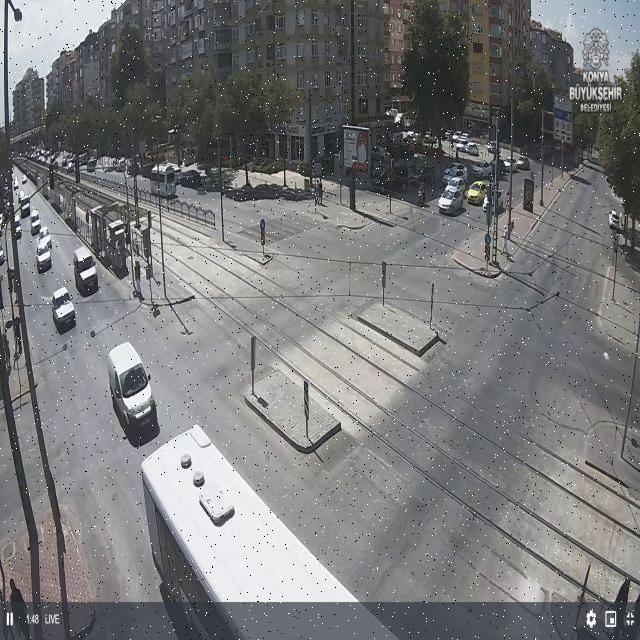Car: (108, 342, 158, 437), (75, 247, 100, 295), (50, 288, 78, 328), (150, 163, 177, 198), (438, 185, 464, 214), (480, 189, 505, 213), (442, 163, 468, 186), (175, 170, 206, 188), (466, 181, 489, 205), (36, 245, 52, 272), (471, 161, 494, 178), (0, 183, 12, 213), (489, 161, 508, 178), (37, 226, 51, 248), (608, 210, 622, 230), (30, 210, 41, 234), (20, 194, 31, 218), (126, 162, 144, 176), (502, 158, 518, 172), (139, 164, 155, 178), (13, 211, 22, 234), (402, 131, 419, 143), (516, 156, 530, 170), (455, 142, 470, 154), (464, 143, 479, 155), (422, 133, 437, 145), (385, 108, 399, 120), (27, 148, 40, 160), (486, 141, 498, 153), (2, 176, 11, 191), (64, 160, 75, 172), (394, 112, 404, 124), (54, 158, 66, 168), (12, 175, 20, 190), (45, 154, 56, 164), (451, 133, 463, 142), (459, 133, 470, 142), (172, 163, 181, 173), (403, 118, 411, 128), (38, 156, 48, 163), (22, 175, 28, 184)
Truck: (140, 425, 401, 640)
